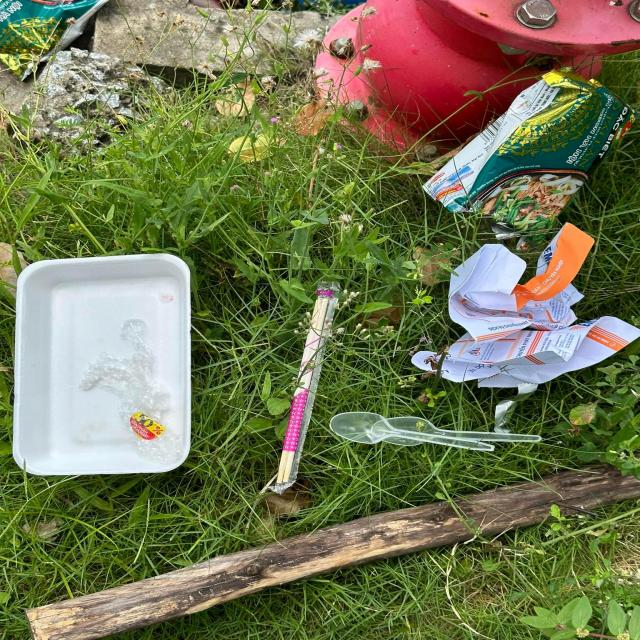foam box: (11, 252, 193, 477)
paper: (411, 222, 640, 388)
plastic utensil: (330, 411, 494, 452), (371, 417, 541, 446)
snack package: (420, 68, 640, 246), (0, 0, 112, 82)
